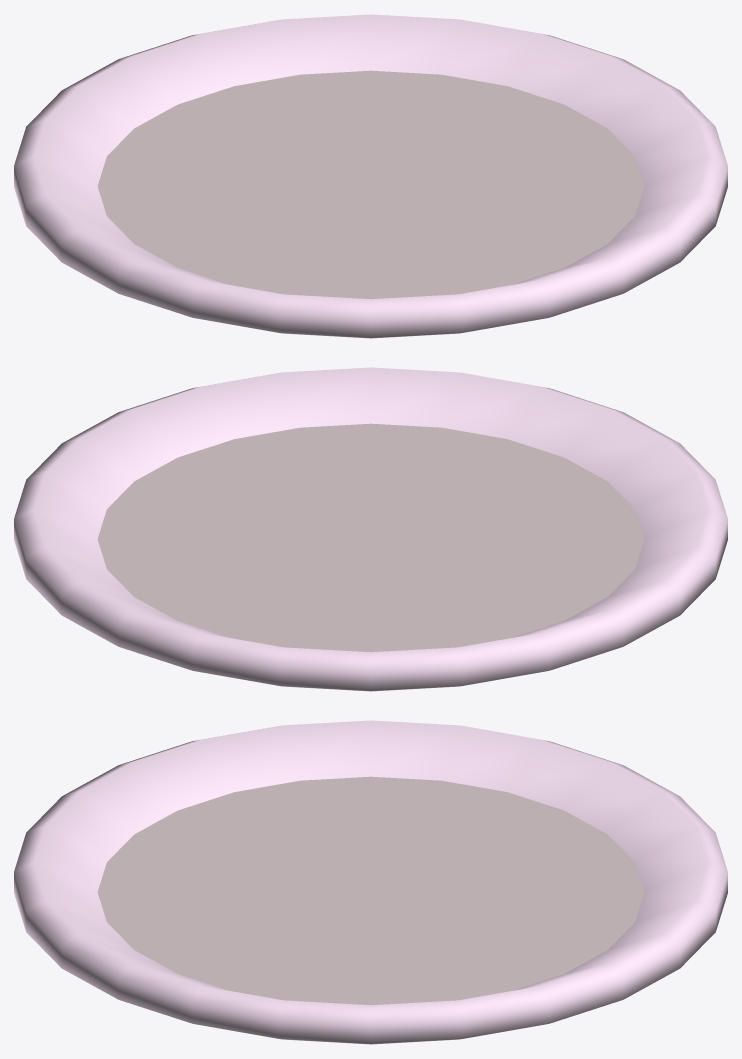
The model's file is Tray.fbx.
3 views of the same model, one above another, from view 1: azimuth 30°, elevation 25°; view 2: azimuth 150°, elevation 25°; view 3: azimuth 270°, elevation 25° (orthographic).
Visible parts, largest first — view 1: Tray; view 2: Tray; view 3: Tray.
Part boxes in pixels (bbox=[...]): Tray: bbox=[14, 14, 727, 338]; Tray: bbox=[14, 367, 727, 691]; Tray: bbox=[14, 720, 727, 1044].
Size of the model in its own units: 200 by 15.88 by 200.
Materials: 1 (1 with a texture image).
